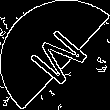M_SE: (19, 21, 91, 89)
